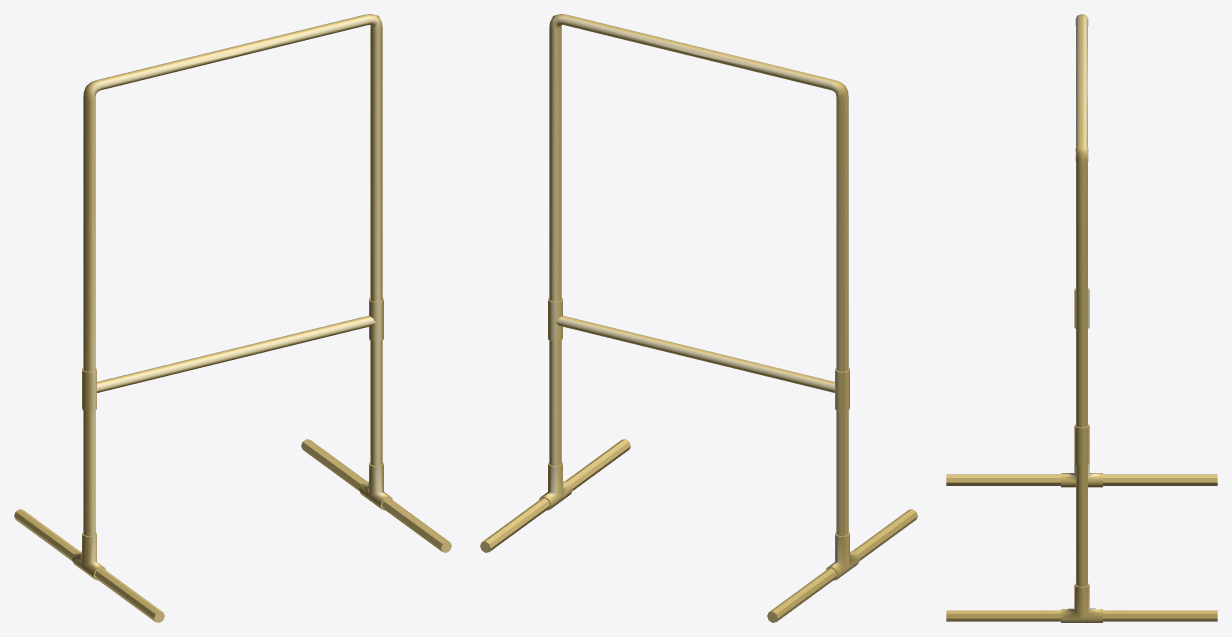
The model's file is baseballShelf2.glb.
The picture shows the model from 3 angles, left to right: view 1: azimuth 30°, elevation 25°; view 2: azimuth 150°, elevation 25°; view 3: azimuth 270°, elevation 25°; orthographic projection. The views are drawn at different scales.
Parts seen in each view (by area): view 1: Cylinder001; view 2: Cylinder001; view 3: Cylinder001.
Part boxes in pixels (<box>): Cylinder001: <box>14,14,451,622</box>; Cylinder001: <box>480,14,917,622</box>; Cylinder001: <box>946,14,1217,622</box>.
Bounding box in the file's own units: 1.65 × 2.58 × 1.34.
1 material, 1 textured.
